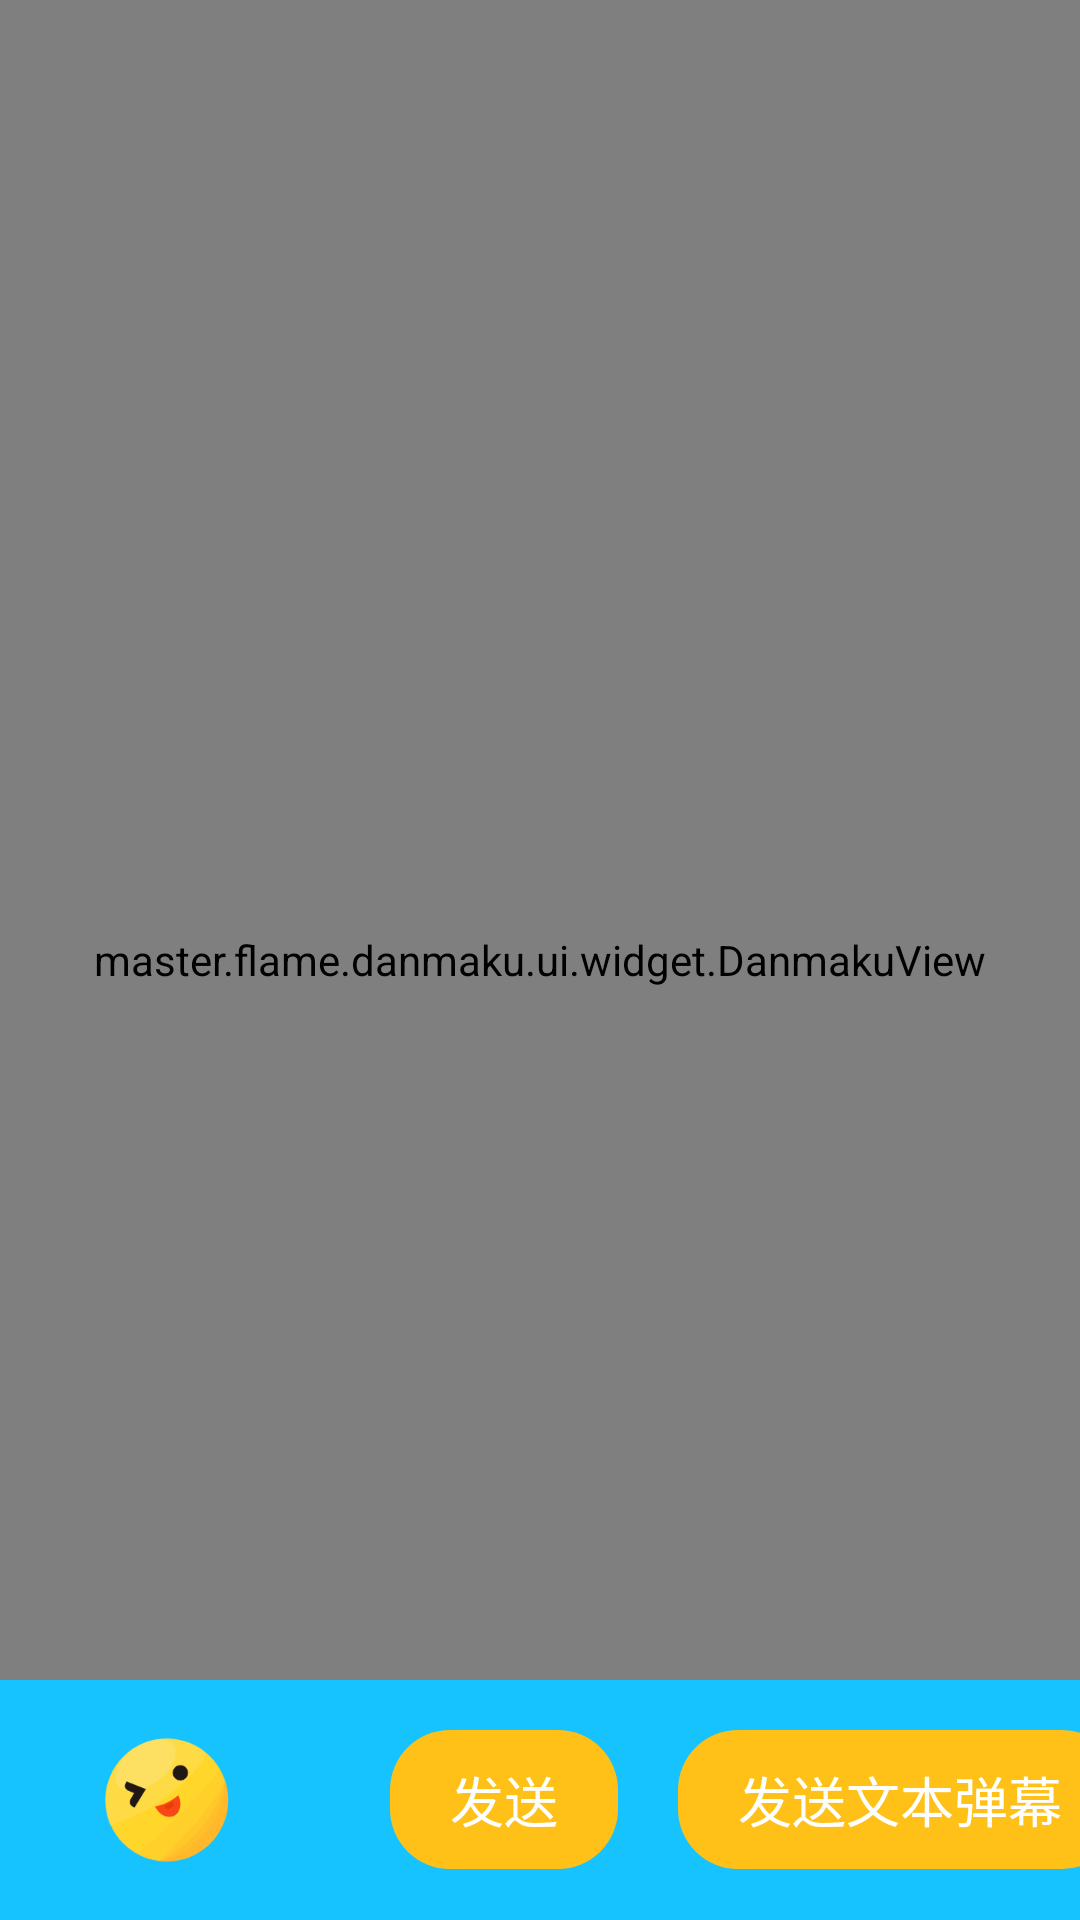

Icon click points for this 1080 x 1920 phone screenshot, format (x,y):
emotion: (167,1800)
